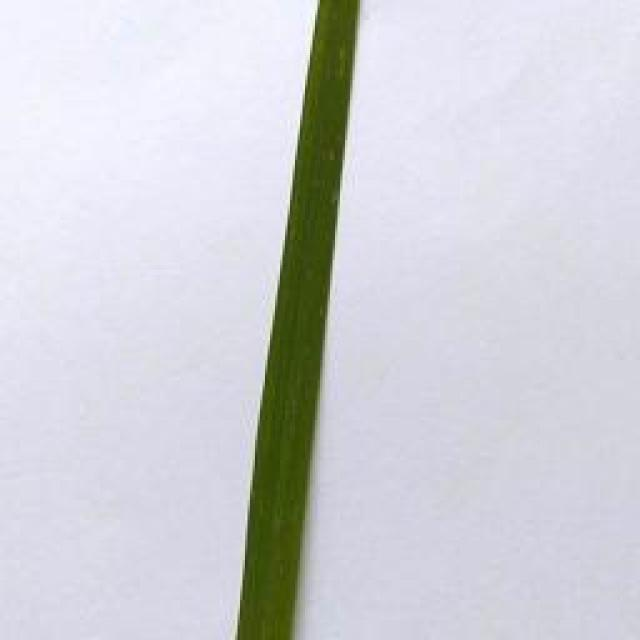Healthy-Plant: (225, 0, 364, 640)
